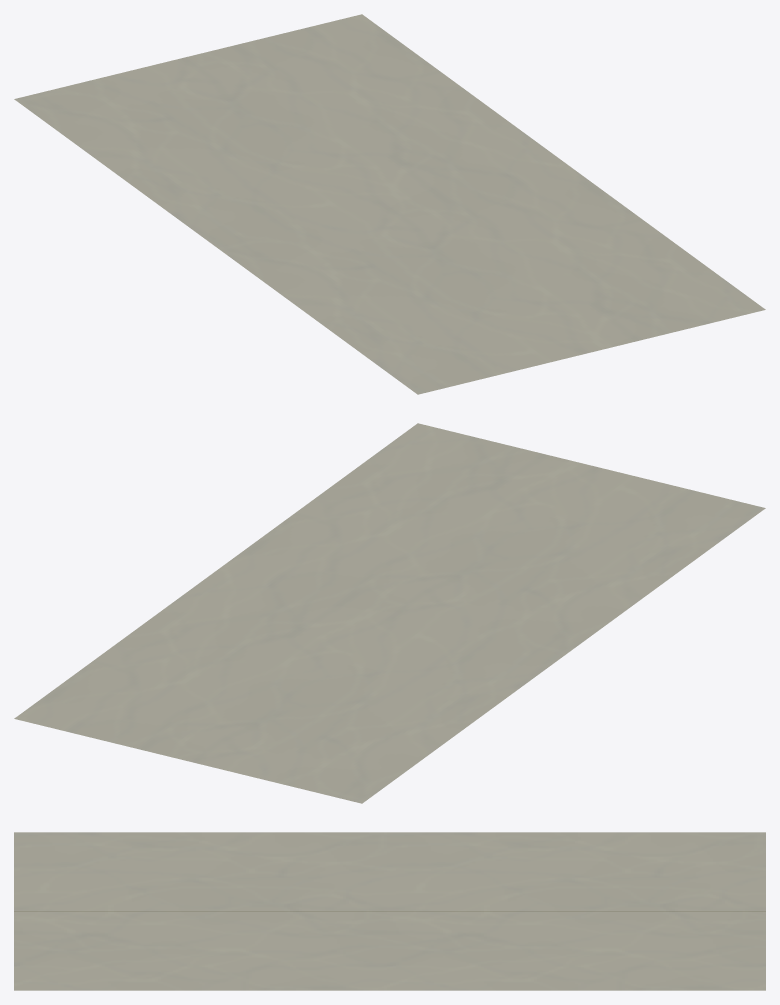
Rendered from ArroyoPlano.gltf.
3 renders of one model, top to bottom at view 1: azimuth 30°, elevation 25°; view 2: azimuth 150°, elevation 25°; view 3: azimuth 270°, elevation 25°, orthographic. The views are drawn at different scales.
Visible parts, largest first — view 1: Plane; view 2: Plane; view 3: Plane.
Part boxes in pixels (<box>): Plane: <box>14,14,765,394</box>; Plane: <box>14,423,765,803</box>; Plane: <box>14,832,765,990</box>.
Size of the model in its own units: 2.98 by 0 by 6.
Materials: 1 (1 with a texture image).
